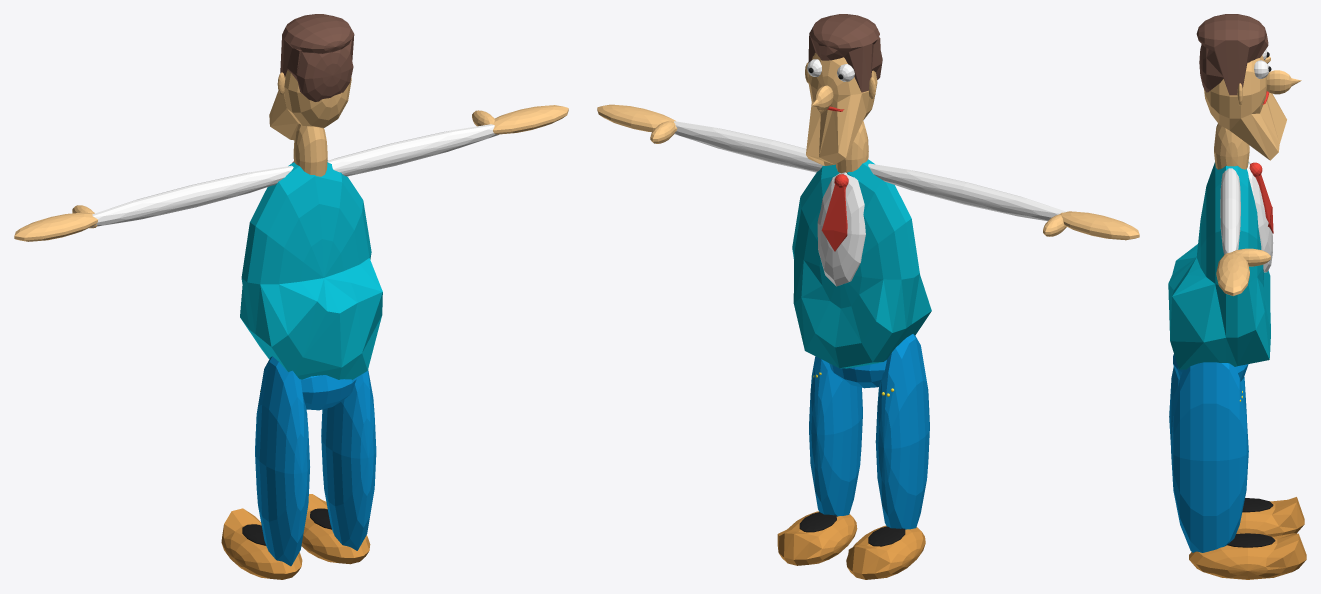
Rendered from tposech.obj.
The picture shows the model from 3 angles, left to right: view 1: azimuth 30°, elevation 25°; view 2: azimuth 150°, elevation 25°; view 3: azimuth 270°, elevation 25°; orthographic projection. The views are drawn at different scales.
Parts seen in each view (by area): view 1: group1380862657, group1836942984, group1825320804, group1106795077, group140502519, group50892088, group596569907, group583372869, group1456628234, group291859143, group1443220114, group634310311 (+2 smaller); view 2: group1380862657, group1836942984, group1825320804, group50892088, group1106795077, group1456628234, group243256103, group140502519, group291859143, group583372869, group1443220114, group330932158 (+3 smaller); view 3: group1380862657, group1825320804, group50892088, group291859143, group1456628234, group583372869, group140502519, group634310311, group330932158, group243256103, group596569907, group613935313 (+7 smaller).
Part boxes in pixels (x1,y1,x2,y2): group1380862657: [240, 160, 382, 379]; group1836942984: [255, 356, 309, 566]; group1825320804: [321, 369, 376, 550]; group1106795077: [90, 165, 293, 227]; group140502519: [273, 124, 499, 185]; group50892088: [269, 70, 351, 140]; group596569907: [287, 39, 353, 101]; group583372869: [221, 508, 302, 579]; group1456628234: [280, 14, 354, 77]; group291859143: [301, 494, 370, 564]; group1443220114: [14, 212, 97, 241]; group634310311: [293, 124, 327, 176]; group1380862657: [792, 159, 931, 368]; group1836942984: [875, 334, 929, 529]; group1825320804: [809, 356, 862, 516]; group50892088: [806, 52, 877, 165]; group1106795077: [868, 163, 1066, 221]; group1456628234: [808, 14, 879, 92]; group243256103: [817, 172, 865, 286]; group140502519: [674, 121, 823, 172]; group291859143: [777, 511, 857, 565]; group583372869: [846, 525, 925, 579]; group1443220114: [1060, 211, 1139, 240]; group330932158: [597, 104, 677, 132]; group1380862657: [1168, 162, 1270, 369]; group1825320804: [1171, 362, 1248, 552]; group50892088: [1204, 55, 1286, 160]; group291859143: [1189, 533, 1306, 579]; group1456628234: [1196, 14, 1268, 95]; group583372869: [1236, 497, 1304, 536]; group140502519: [1220, 168, 1240, 254]; group634310311: [1214, 123, 1249, 169]; group330932158: [1216, 252, 1249, 295]; group243256103: [1247, 162, 1273, 272]; group596569907: [1199, 44, 1223, 92]; group613935313: [1266, 70, 1301, 94].
Bounding box in the file's own units: 3.38 × 3.17 × 0.7288.
